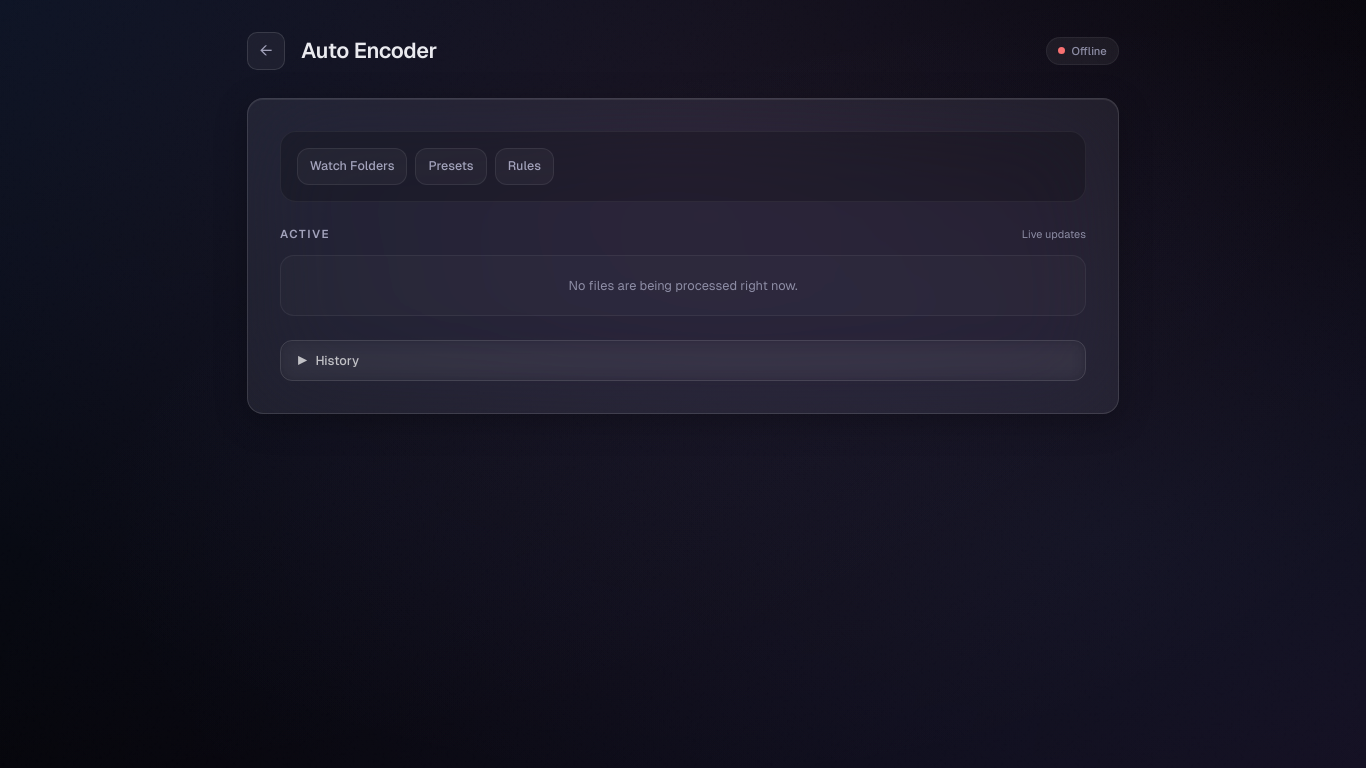
it: EncoderPanel › retries only an offline health pill
The image size is (1366, 768).
expect the element named "Encoder settings" is shown: met, box [280,131,1086,202]
Step 1. Click the button "Presets" → {"x": 451, "y": 166}, box [416,148,487,185]
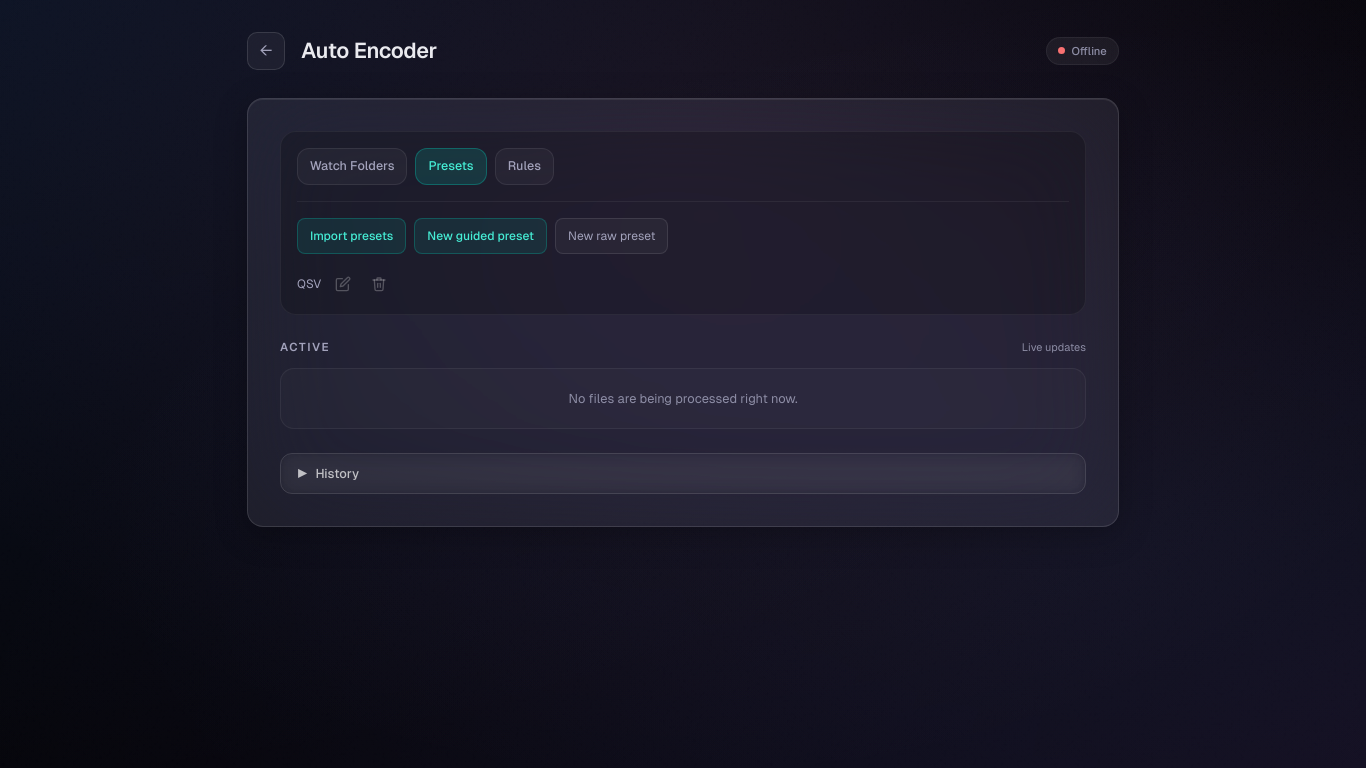
expect the button named "Edit QSV" is enabled: met, box [329,270,357,298]
Step 2. Click the button "Offline" → {"x": 1082, "y": 51}, box [1046,37,1119,65]
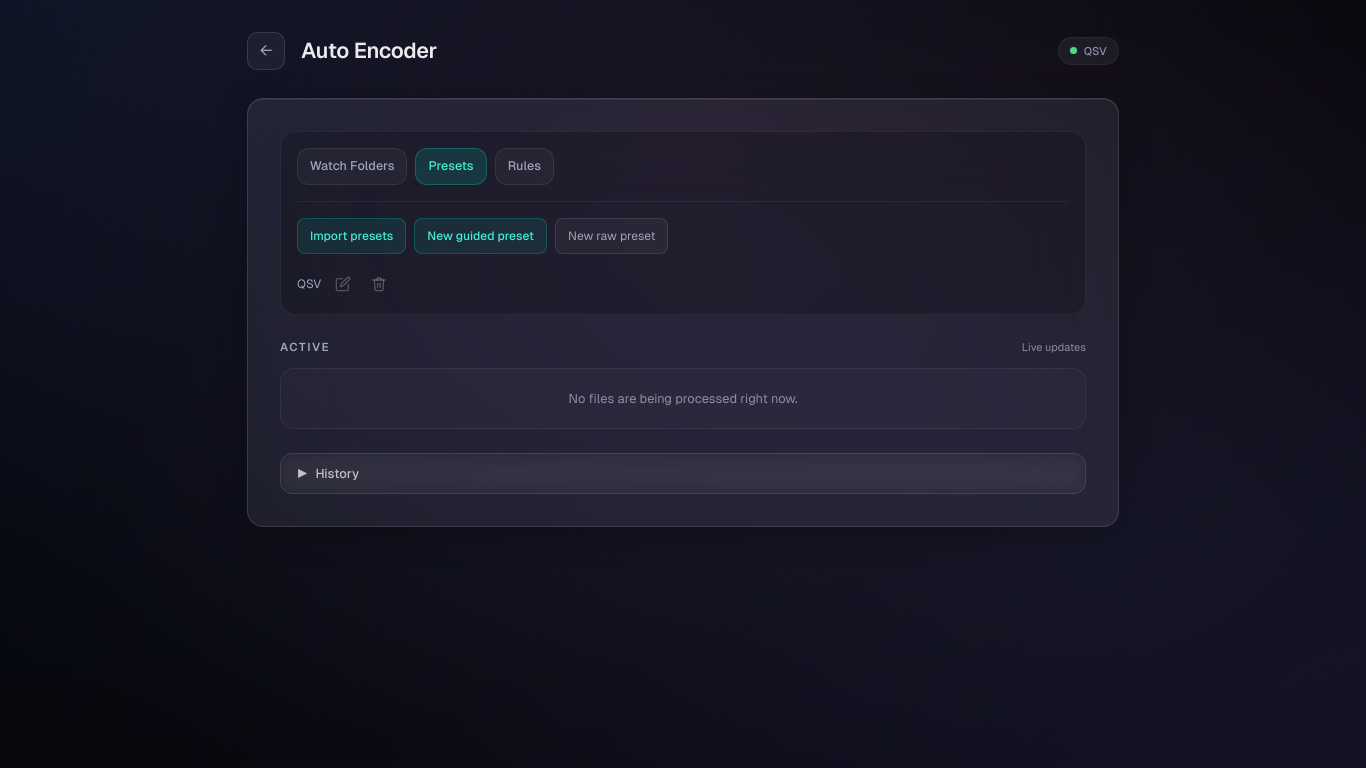
expect the button "QSV" is shown: met, box [1058,37,1119,65]
